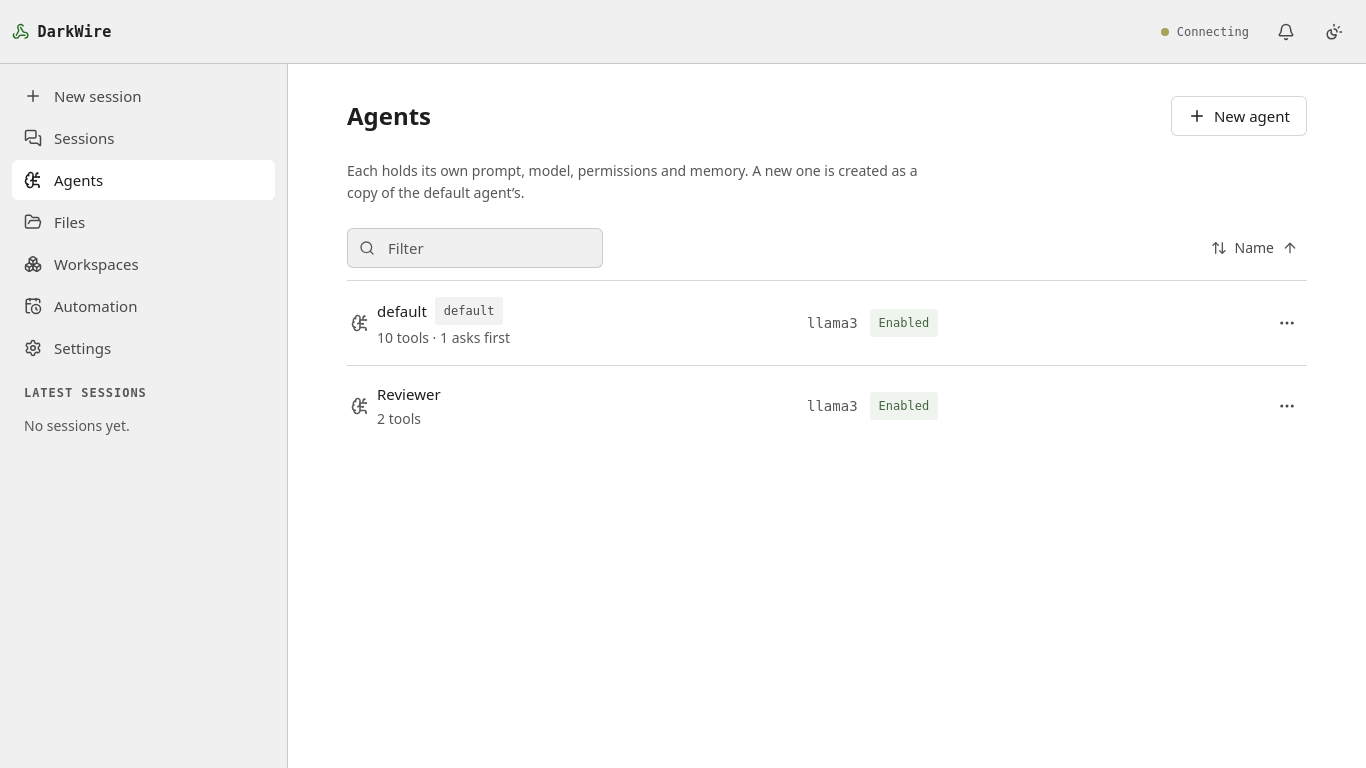
Test case: the agents index › offers no delete for the default, and no way to switch it off
The image size is (1366, 768).
Step 1. Click the button named "Actions for default" → (1287, 323), box [1267, 303, 1307, 343]
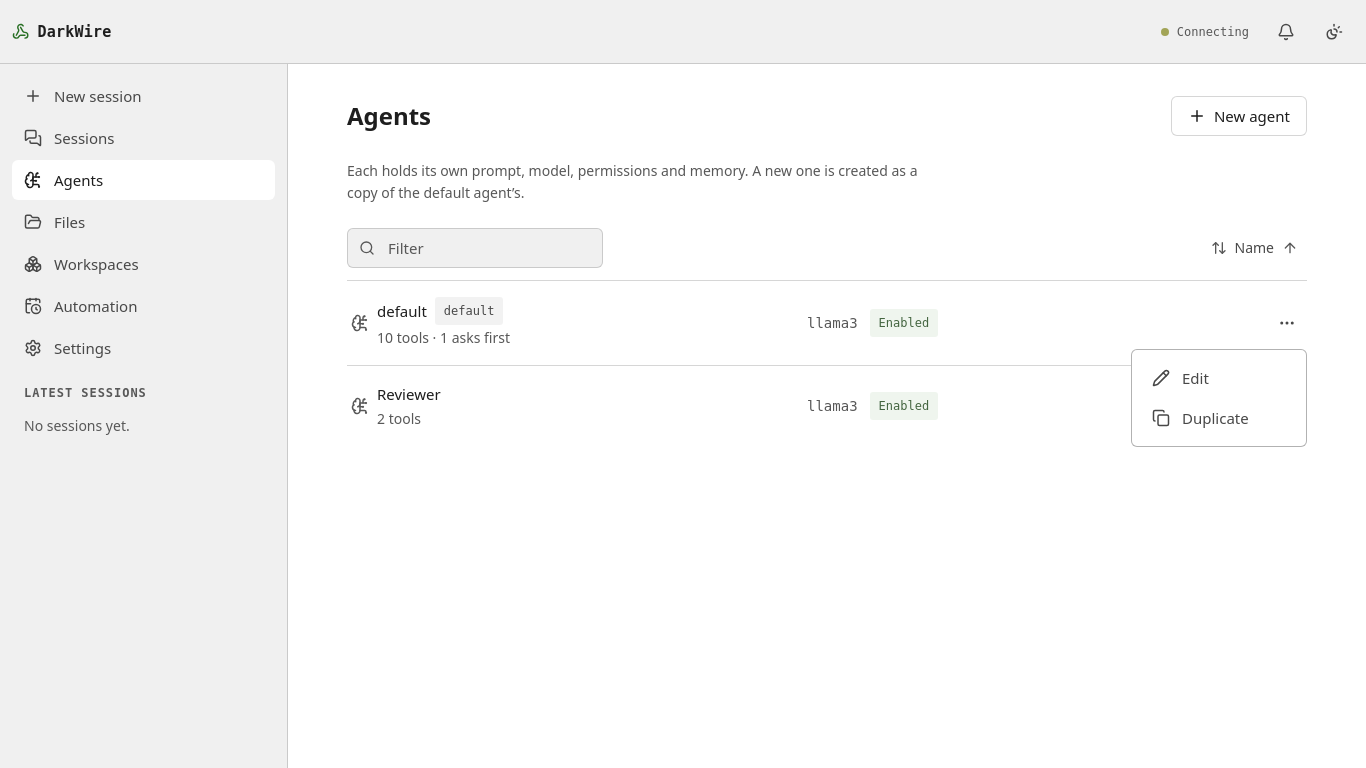
Expected: the menu item "Duplicate" is shown, [1152, 408, 1249, 428]
